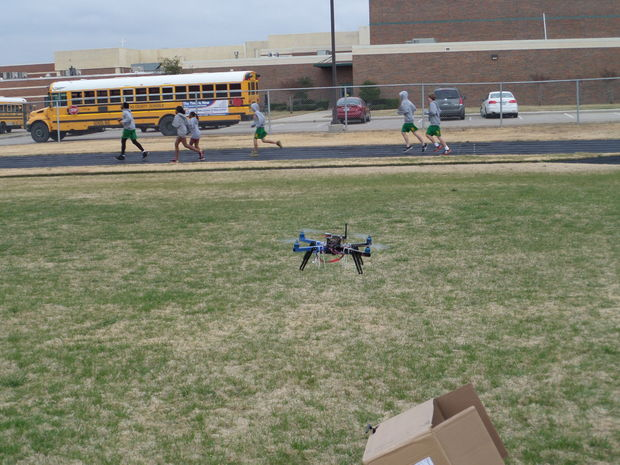drone: (279, 225, 388, 277)
person: (112, 101, 153, 163), (396, 90, 428, 157), (248, 103, 285, 160), (425, 94, 454, 156), (187, 110, 207, 161), (171, 106, 188, 161)
